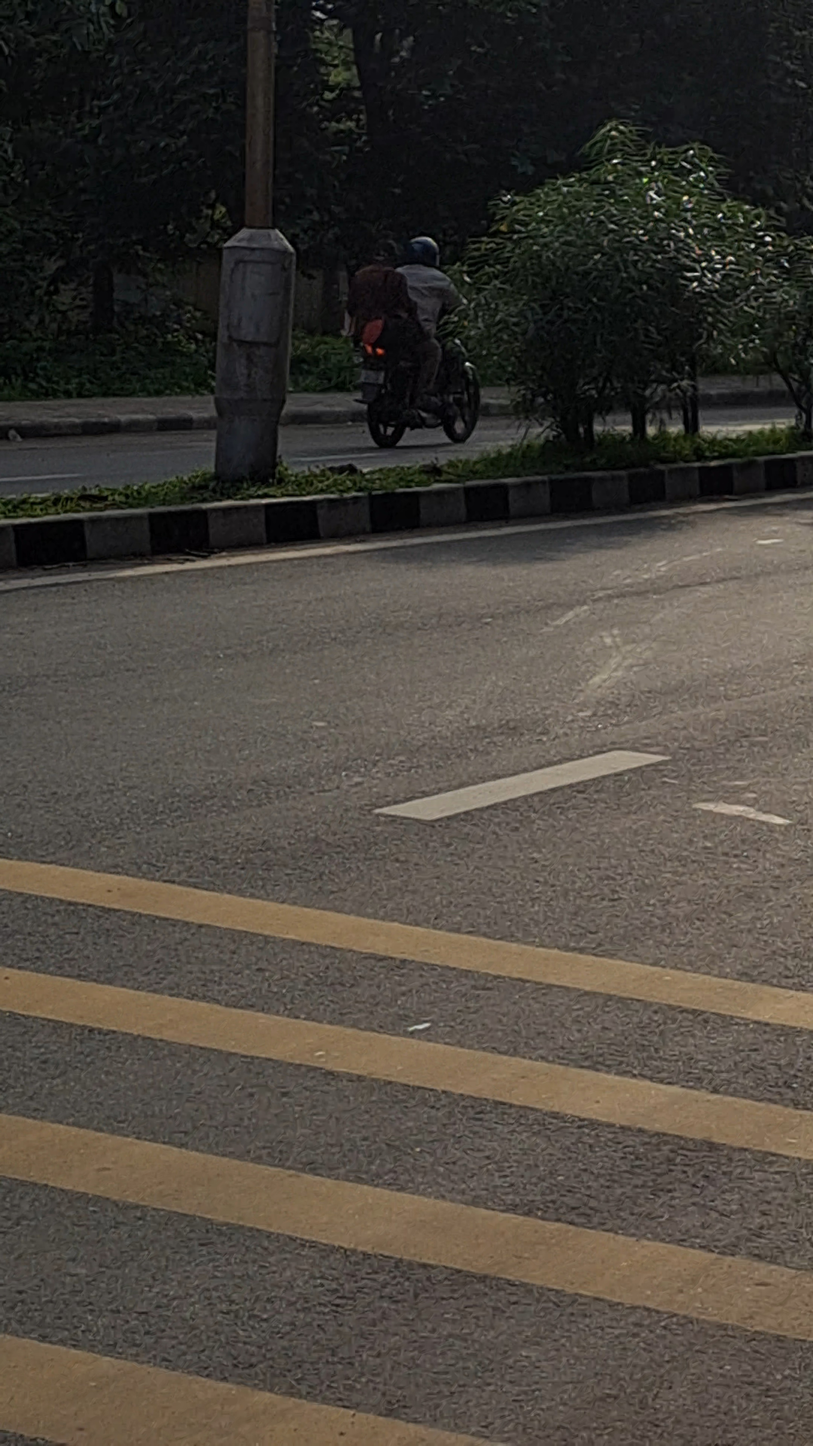BikeWithRider: (335, 226, 491, 456)
Helmet: (399, 230, 445, 273)
NoHelmet: (365, 233, 406, 275)
